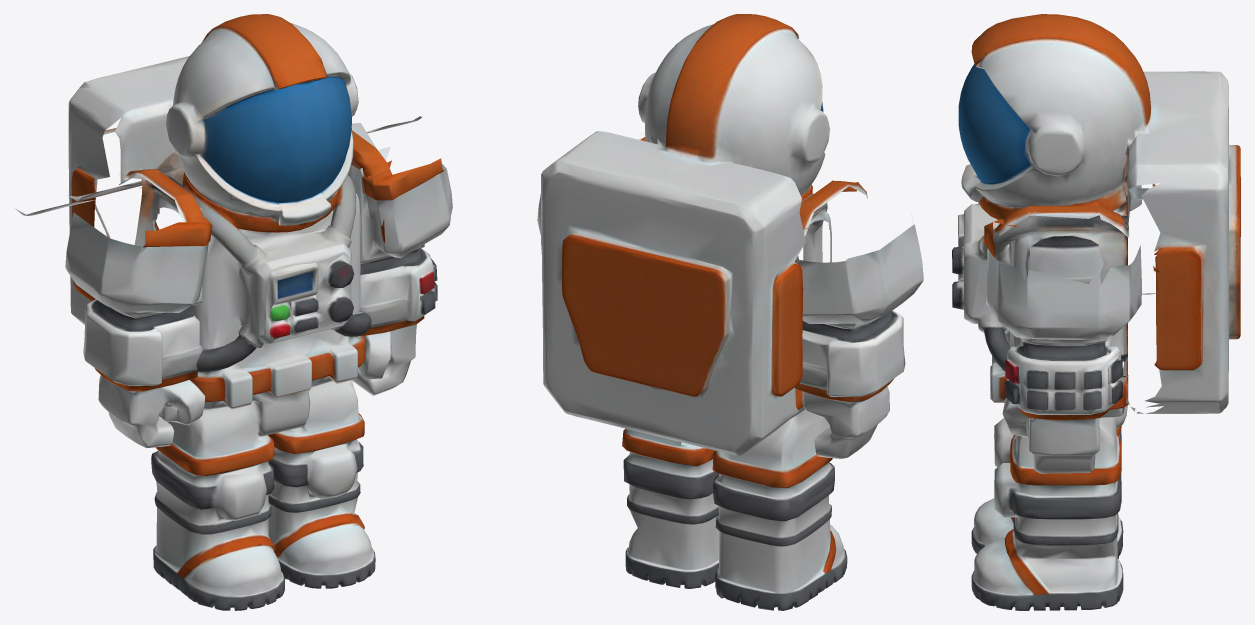
Rendered from astronaut.glb.
3 renders of one model, left to right at view 1: azimuth 30°, elevation 25°; view 2: azimuth 150°, elevation 25°; view 3: azimuth 270°, elevation 25°, orthographic.
Parts seen in each view (by area): view 1: head, torso, armL, legL, armR, legR; view 2: torso, head, armL, legL, legR; view 3: head, torso, armR, legR, armL, legL.
Part boxes in pixels (bbox=[...]): head: bbox=[70, 14, 392, 225]; torso: bbox=[68, 56, 384, 454]; armL: bbox=[15, 173, 212, 447]; legL: bbox=[151, 415, 285, 610]; armR: bbox=[348, 116, 452, 395]; legR: bbox=[268, 400, 375, 588]; torso: bbox=[541, 135, 831, 465]; head: bbox=[568, 14, 867, 273]; armL: bbox=[794, 182, 923, 458]; legL: bbox=[712, 418, 847, 610]; legR: bbox=[622, 428, 719, 588]; head: bbox=[958, 14, 1218, 243]; torso: bbox=[952, 71, 1240, 466]; armR: bbox=[983, 219, 1159, 473]; legR: bbox=[971, 425, 1123, 610]; armL: bbox=[1029, 183, 1155, 283]; legL: bbox=[971, 418, 1123, 558].
Size of the model in its own units: 2.38 by 3.03 by 1.45.
Materials: 1 (1 with a texture image).
